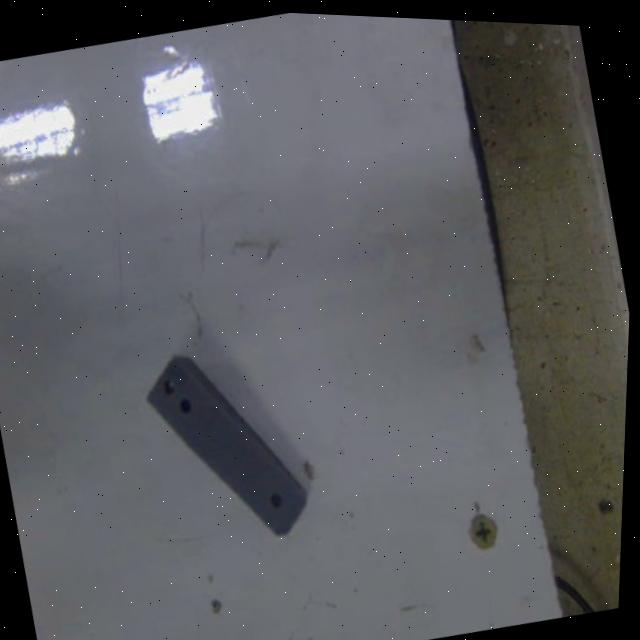grey: (134, 333, 322, 564)
head: (266, 486, 286, 512)
